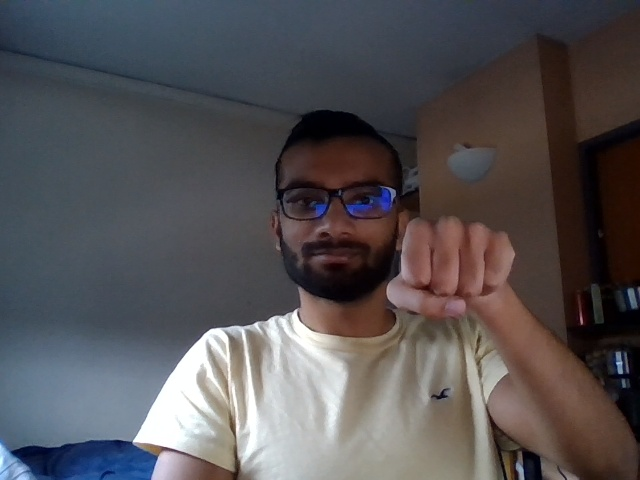Yes: (379, 205, 532, 321)
